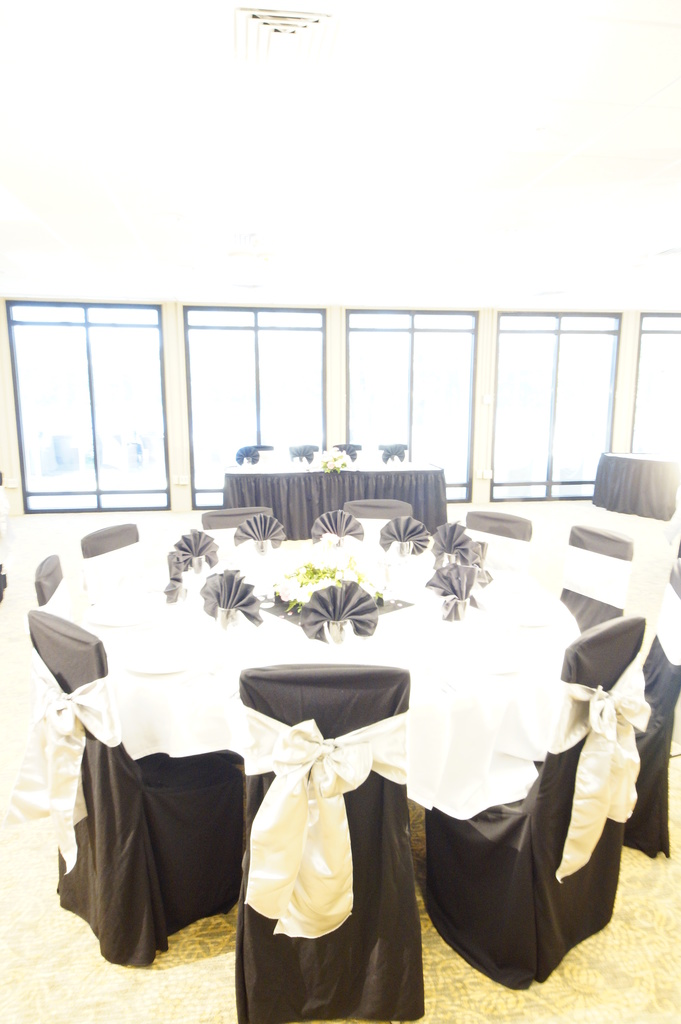Window: (1, 299, 172, 515), (179, 300, 327, 509), (344, 307, 477, 500), (484, 311, 617, 502), (631, 307, 680, 468)
